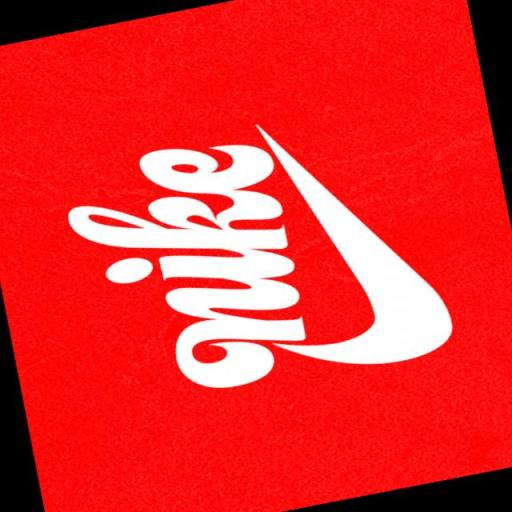Nike: (64, 127, 308, 375), (278, 121, 459, 374)
